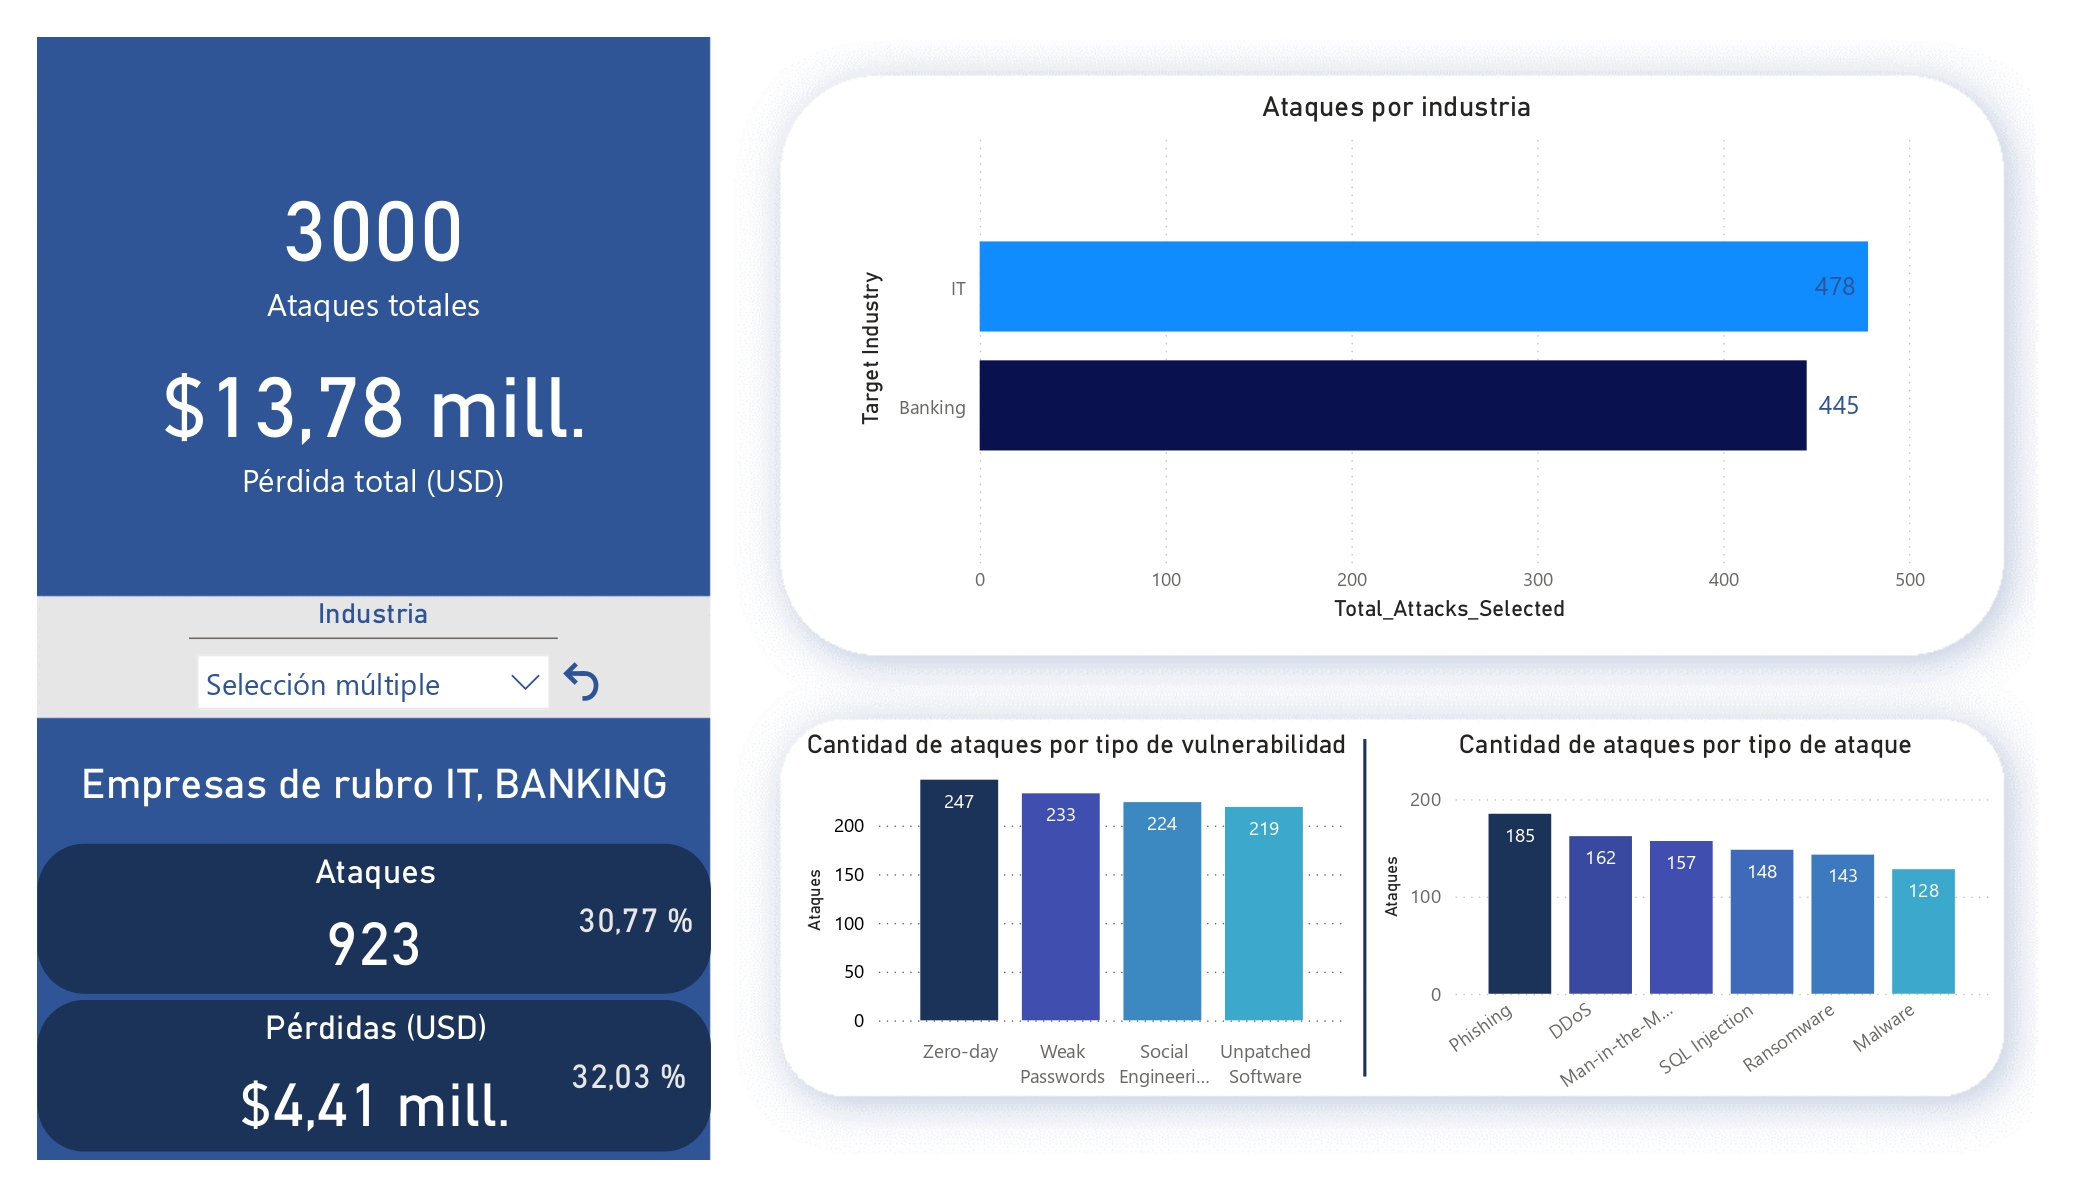

What the dashboard file says about the page in this screenshot:
{"tool":"powerbi","page":{"name":"Dashboard","canvas":[1280,720],"ordinal":0},"visuals":[{"type":"card","fields":{"Values":["Metricas.Total_Loss"]},"box":[69.9,186.9,289.7,112.7],"z":1000},{"type":"barChart","title":"Ataques por industria","fields":{"Category":["Global_Cybersecurity_Threats_2015-2024.Target Industry"],"Y":["Metricas.Total_Attacks_Selected"]},"box":[520,33.3,700,345],"z":2000},{"type":"card","title":"ATAQUES TOTALES","fields":{"Values":["Metricas.Total_Attacks"]},"box":[69.9,74.2,289.7,112.7],"z":3000},{"type":"slicer","title":"Industria","fields":{"Values":["Global_Cybersecurity_Threats_2015-2024.Target Industry"]},"box":[91.8,357.6,246.5,74.1],"z":4000},{"type":"columnChart","title":"Cantidad de ataques por tipo de vulnerabilidad","fields":{"Category":["Global_Cybersecurity_Threats_2015-2024.Security Vulnerability Type"],"Y":["Metricas.Total_Attacks_Selected"]},"box":[486.7,441.7,356.7,238.3],"z":5000},{"type":"card","title":"Ataques","fields":{"Values":["Metricas.Total_Attacks_Selected"]},"box":[0,515.7,431.4,96.4],"z":6000},{"type":"card","title":"Pérdidas (USD)","fields":{"Values":["Metricas.Total_Loss"]},"box":[0,616.4,431.4,96.4],"z":7000},{"type":"columnChart","title":"Cantidad de ataques por tipo de ataque","fields":{"Y":["Metricas.Total_Attacks_Selected"],"Category":["Global_Cybersecurity_Threats_2015-2024.Attack Type"]},"box":[856.1,442.2,398.3,238.1],"z":8000},{"type":"shape","box":[843,449,13,216],"z":9000},{"type":"card","fields":{"Values":["Metricas.Industry_Attack_Selection"]},"box":[0,435.7,431.4,80],"z":10000},{"type":"card","fields":{"Values":["Metricas.&Total_Loss_Selected"]},"box":[326.4,616.4,105,96.4],"z":11000},{"type":"card","fields":{"Values":["Metricas.%Total_Attacks_Selected"]},"box":[327.1,515.7,111.4,97.1],"z":12000},{"type":"actionButton","box":[330.8,394.5,35.8,34.5],"z":13000}]}

Visuals, with their boxes on the page's 1280x720 design canvas (x1, y1, x2, y2). These are canvas units, not pixel positions in the 2075x1200 screenshot, which may show the page scaled, cropped or inside an application window:
card - Metricas.Total_Loss: {"left": 70, "top": 187, "right": 360, "bottom": 300}
"Ataques por industria" barChart: {"left": 520, "top": 33, "right": 1220, "bottom": 378}
"ATAQUES TOTALES" card: {"left": 70, "top": 74, "right": 360, "bottom": 187}
"Industria" slicer: {"left": 92, "top": 358, "right": 338, "bottom": 432}
"Cantidad de ataques por tipo de vulnerabilidad" columnChart: {"left": 487, "top": 442, "right": 843, "bottom": 680}
"Ataques" card: {"left": 0, "top": 516, "right": 431, "bottom": 612}
"Pérdidas (USD)" card: {"left": 0, "top": 616, "right": 431, "bottom": 713}
"Cantidad de ataques por tipo de ataque" columnChart: {"left": 856, "top": 442, "right": 1254, "bottom": 680}
shape: {"left": 843, "top": 449, "right": 856, "bottom": 665}
card - Metricas.Industry_Attack_Selection: {"left": 0, "top": 436, "right": 431, "bottom": 516}
card - Metricas.&Total_Loss_Selected: {"left": 326, "top": 616, "right": 431, "bottom": 713}
card - Metricas.%Total_Attacks_Selected: {"left": 327, "top": 516, "right": 438, "bottom": 613}
actionButton: {"left": 331, "top": 394, "right": 367, "bottom": 429}
